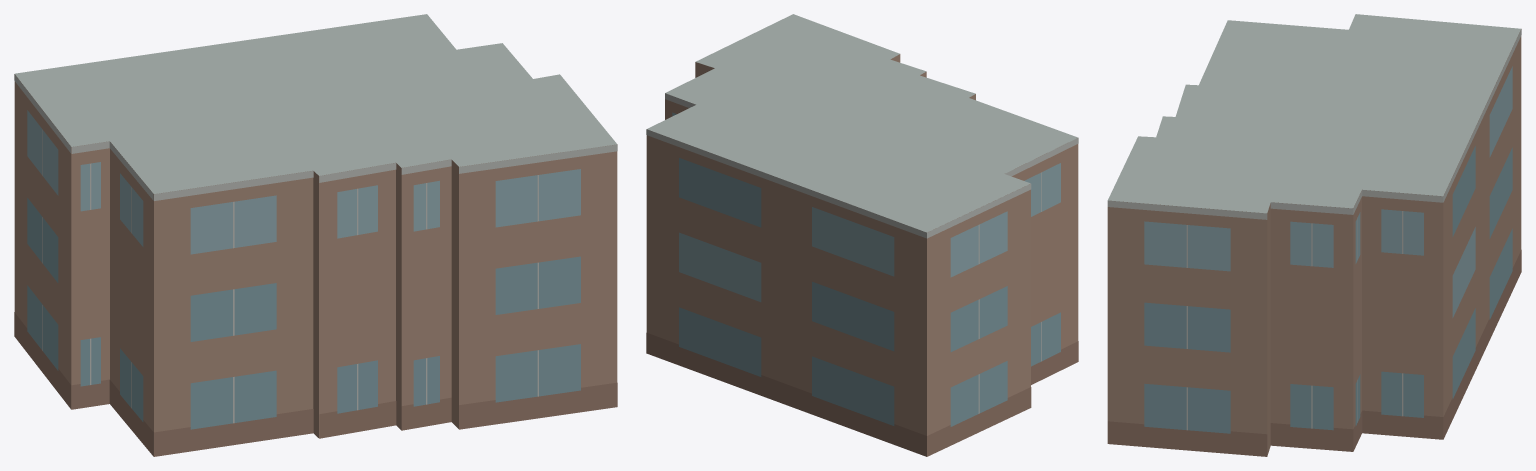
File: survey-upis-32672551.glb
3 renders of one model, left to right at view 1: azimuth 30°, elevation 25°; view 2: azimuth 150°, elevation 25°; view 3: azimuth 270°, elevation 25°, orthographic. The views are drawn at different scales.
Parts seen in each view (by area): view 1: survey-upis-32672551.tmp; view 2: survey-upis-32672551.tmp; view 3: survey-upis-32672551.tmp.
Boxes of the visible parts, box(x1,y1,x2,y2) form: survey-upis-32672551.tmp: box(14, 14, 617, 456); survey-upis-32672551.tmp: box(646, 14, 1078, 456); survey-upis-32672551.tmp: box(1107, 14, 1521, 456).
Bounding box in the file's own units: 16.08 × 9.15 × 14.1.
